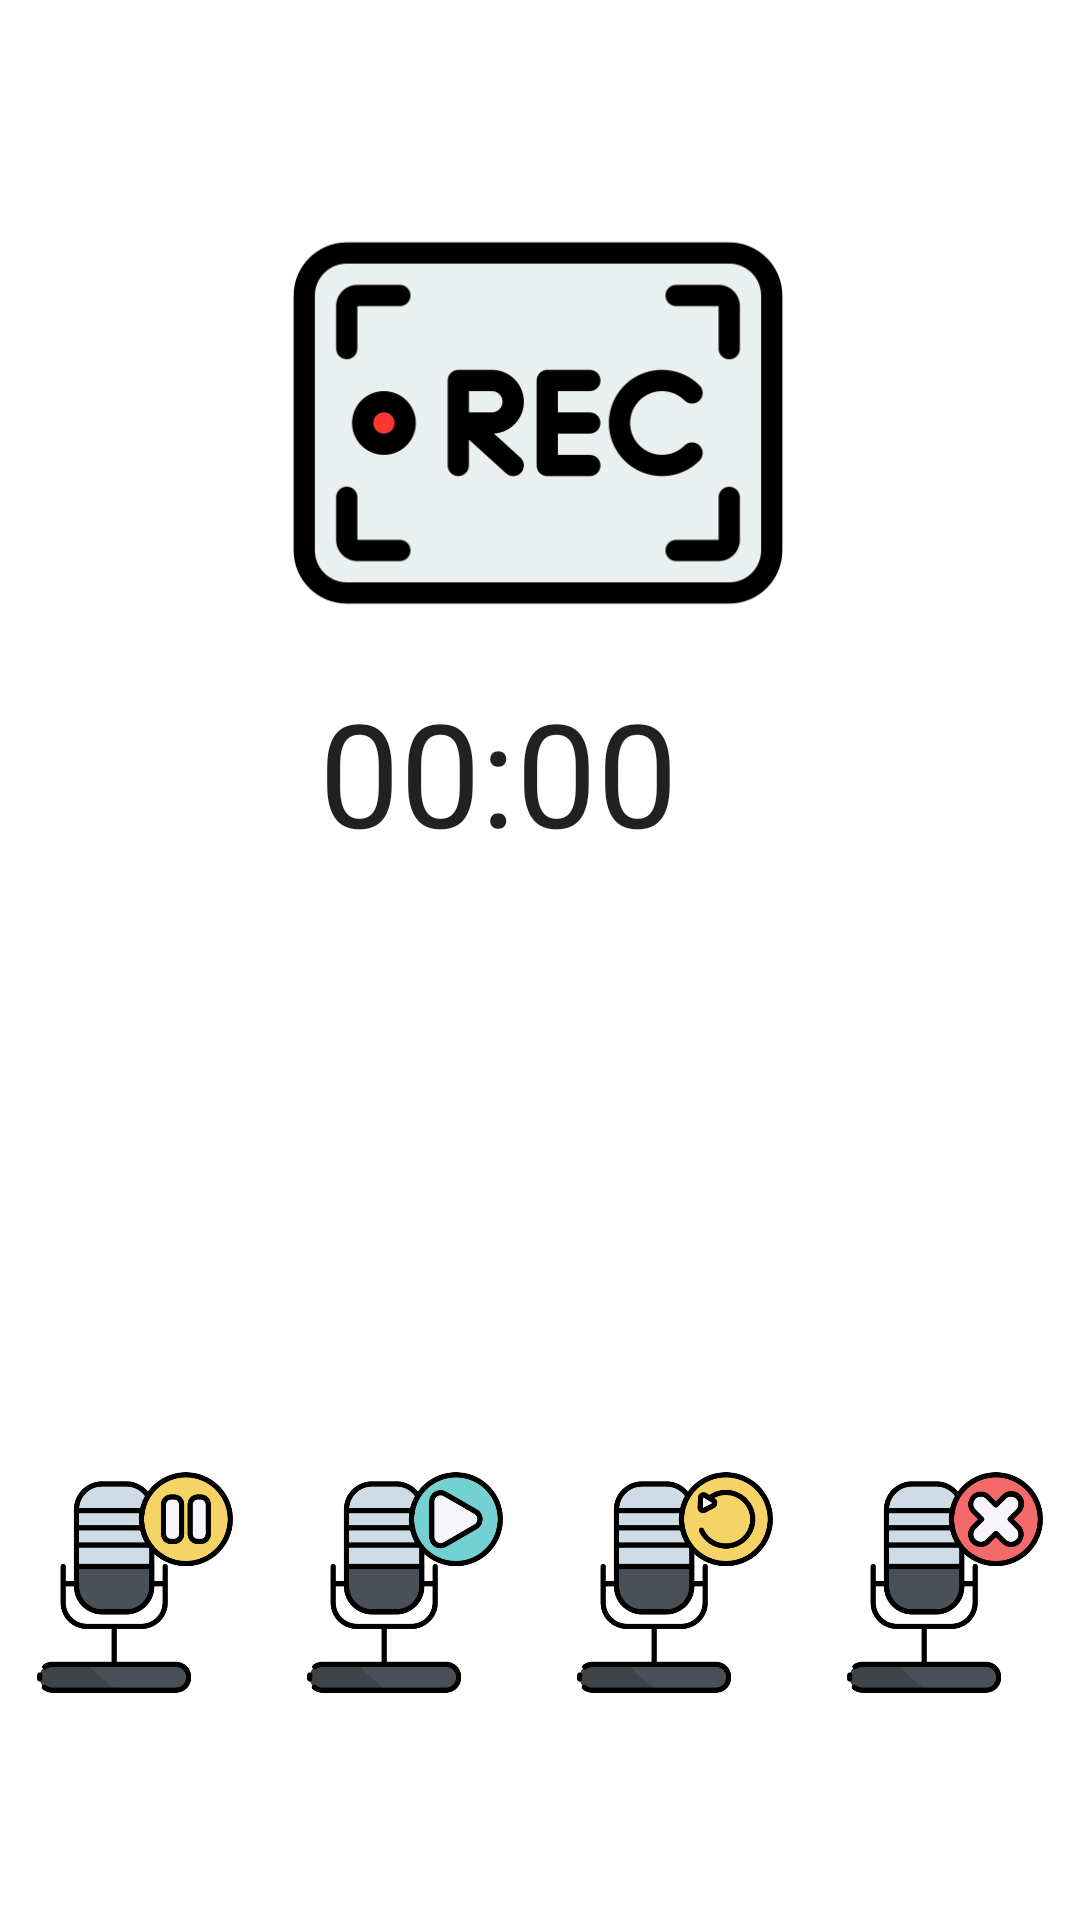

Locate icon controls on the screen. Image size 1080*1920, boxes as [x1,y1,x2,y2].
record delete: [847,1472,1043,1693]
record pause: [37,1472,233,1693]
